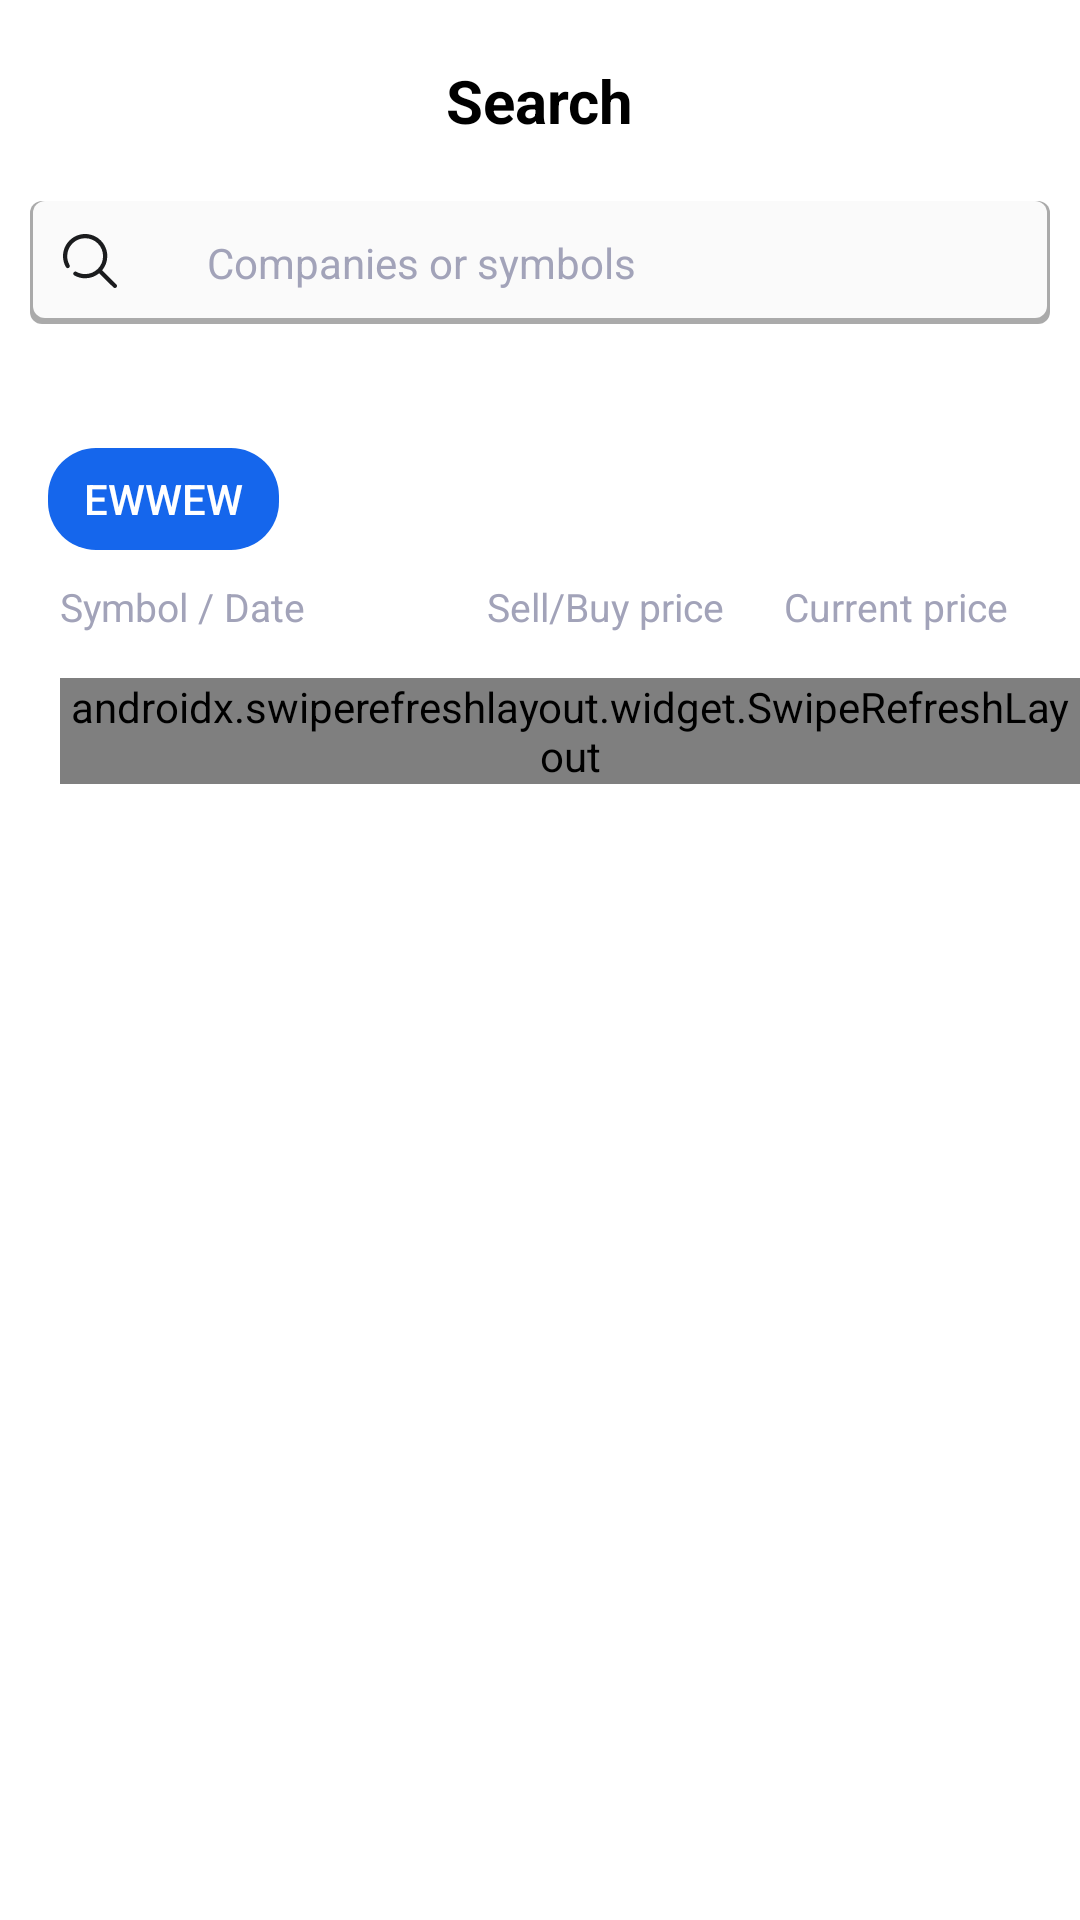

Named icons in this screenshot (1080x1920) and their centers, [x,y]:
search: [90,261]
